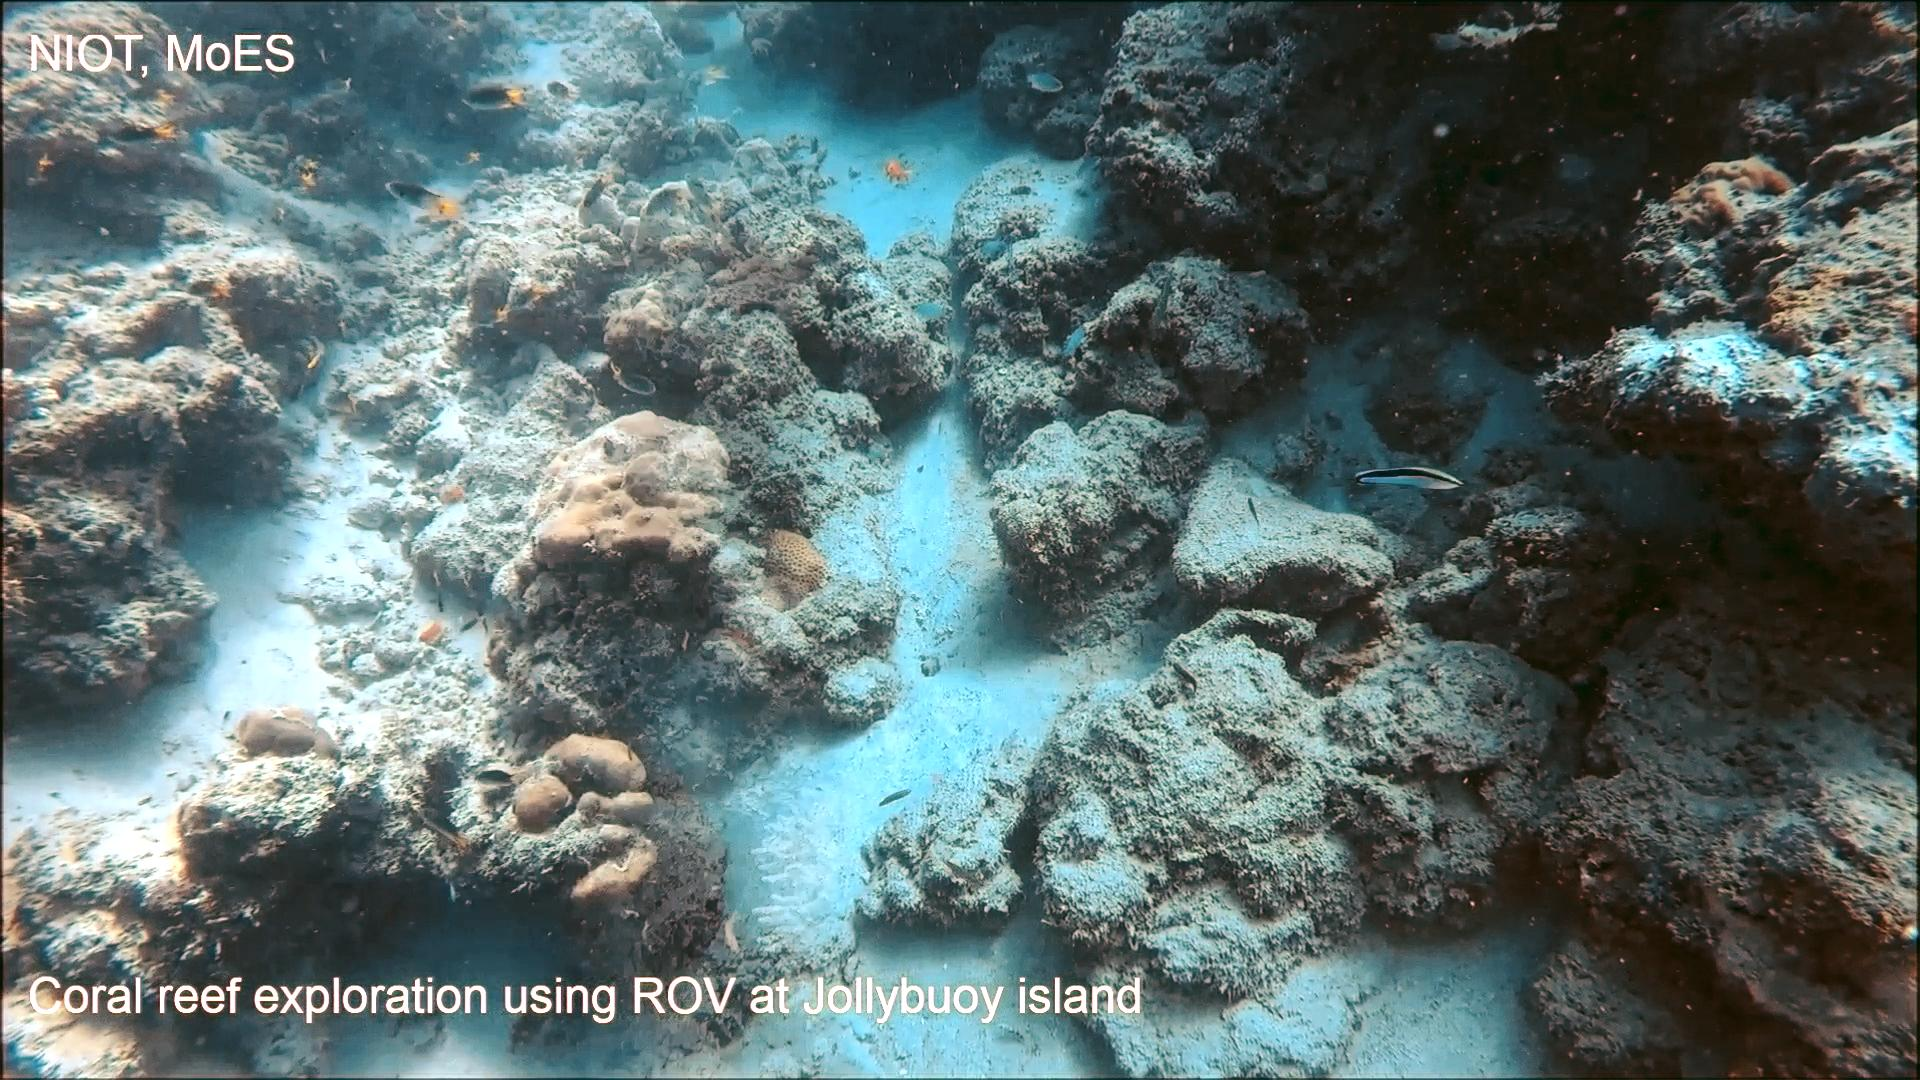Porites-Porites pukoensis: (522, 401, 738, 578)
